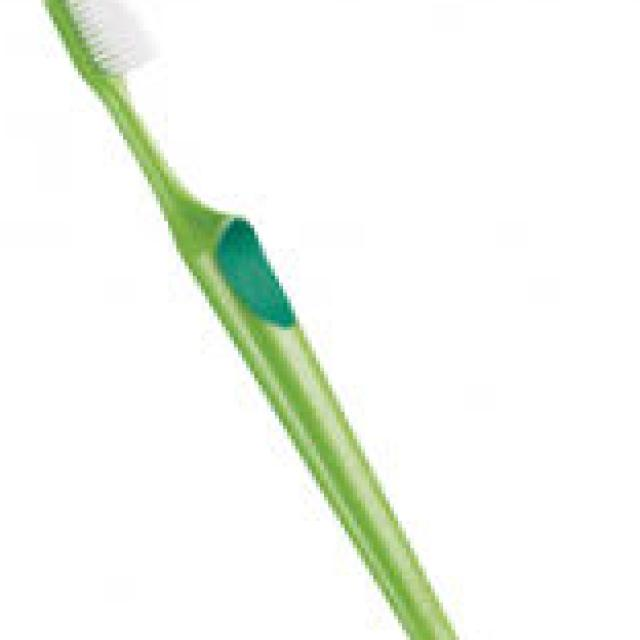organic: (28, 4, 466, 610)
